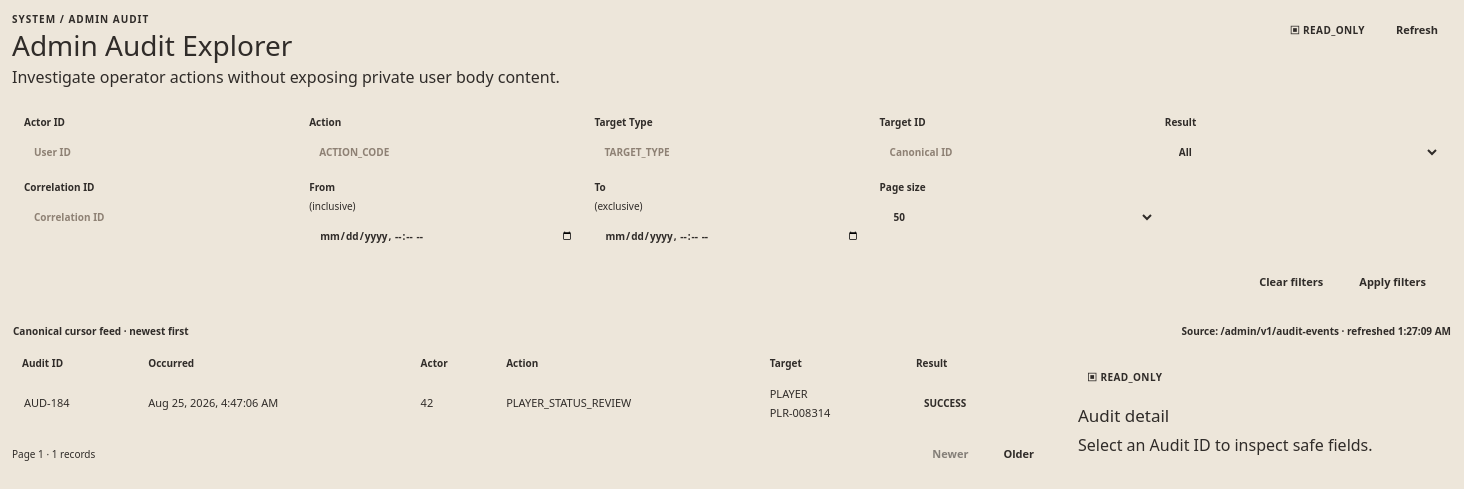
Test case: Admin Audit Explorer › uses backend nextCursor for Older and local cursor history for Newer
The image size is (1464, 489).
Click the button "Older": (1019, 454) [989,436,1048,472]
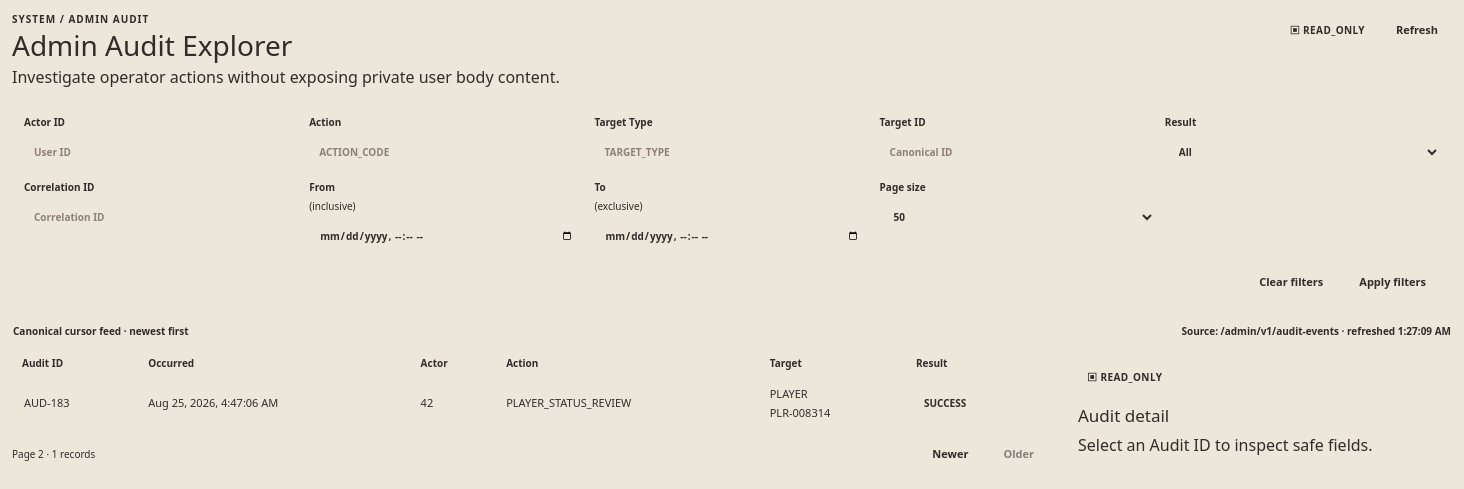
Result: the button "AUD-183" is shown at [22,391,72,416]
Click the button "Newer": (950, 454) [918,436,982,472]
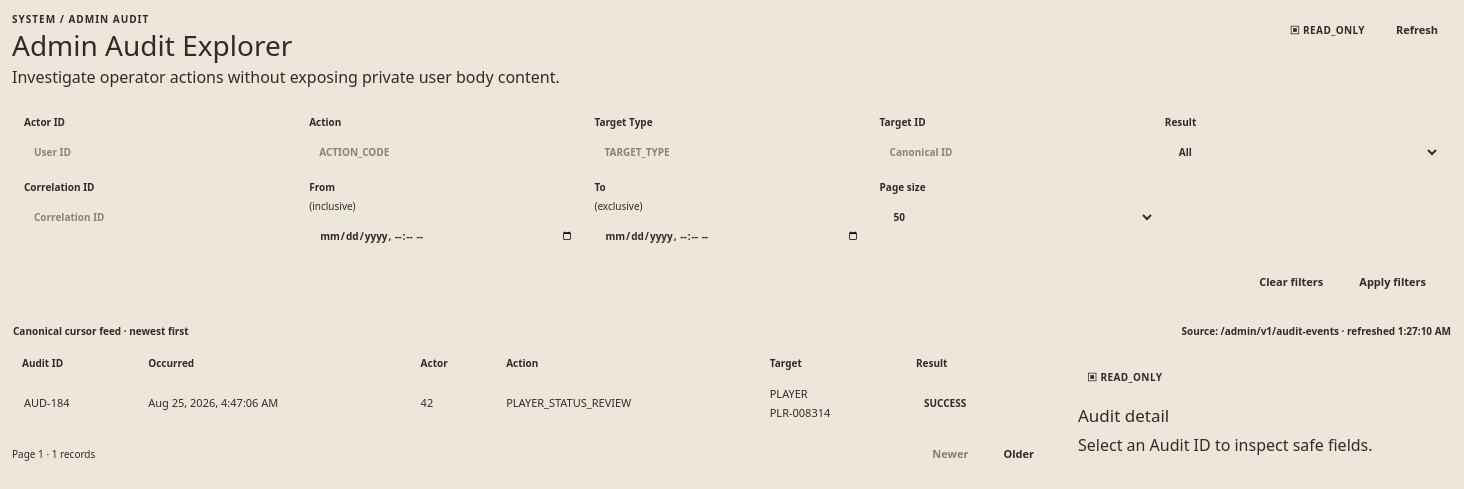
Result: the button "AUD-184" is shown at [22,391,72,416]
